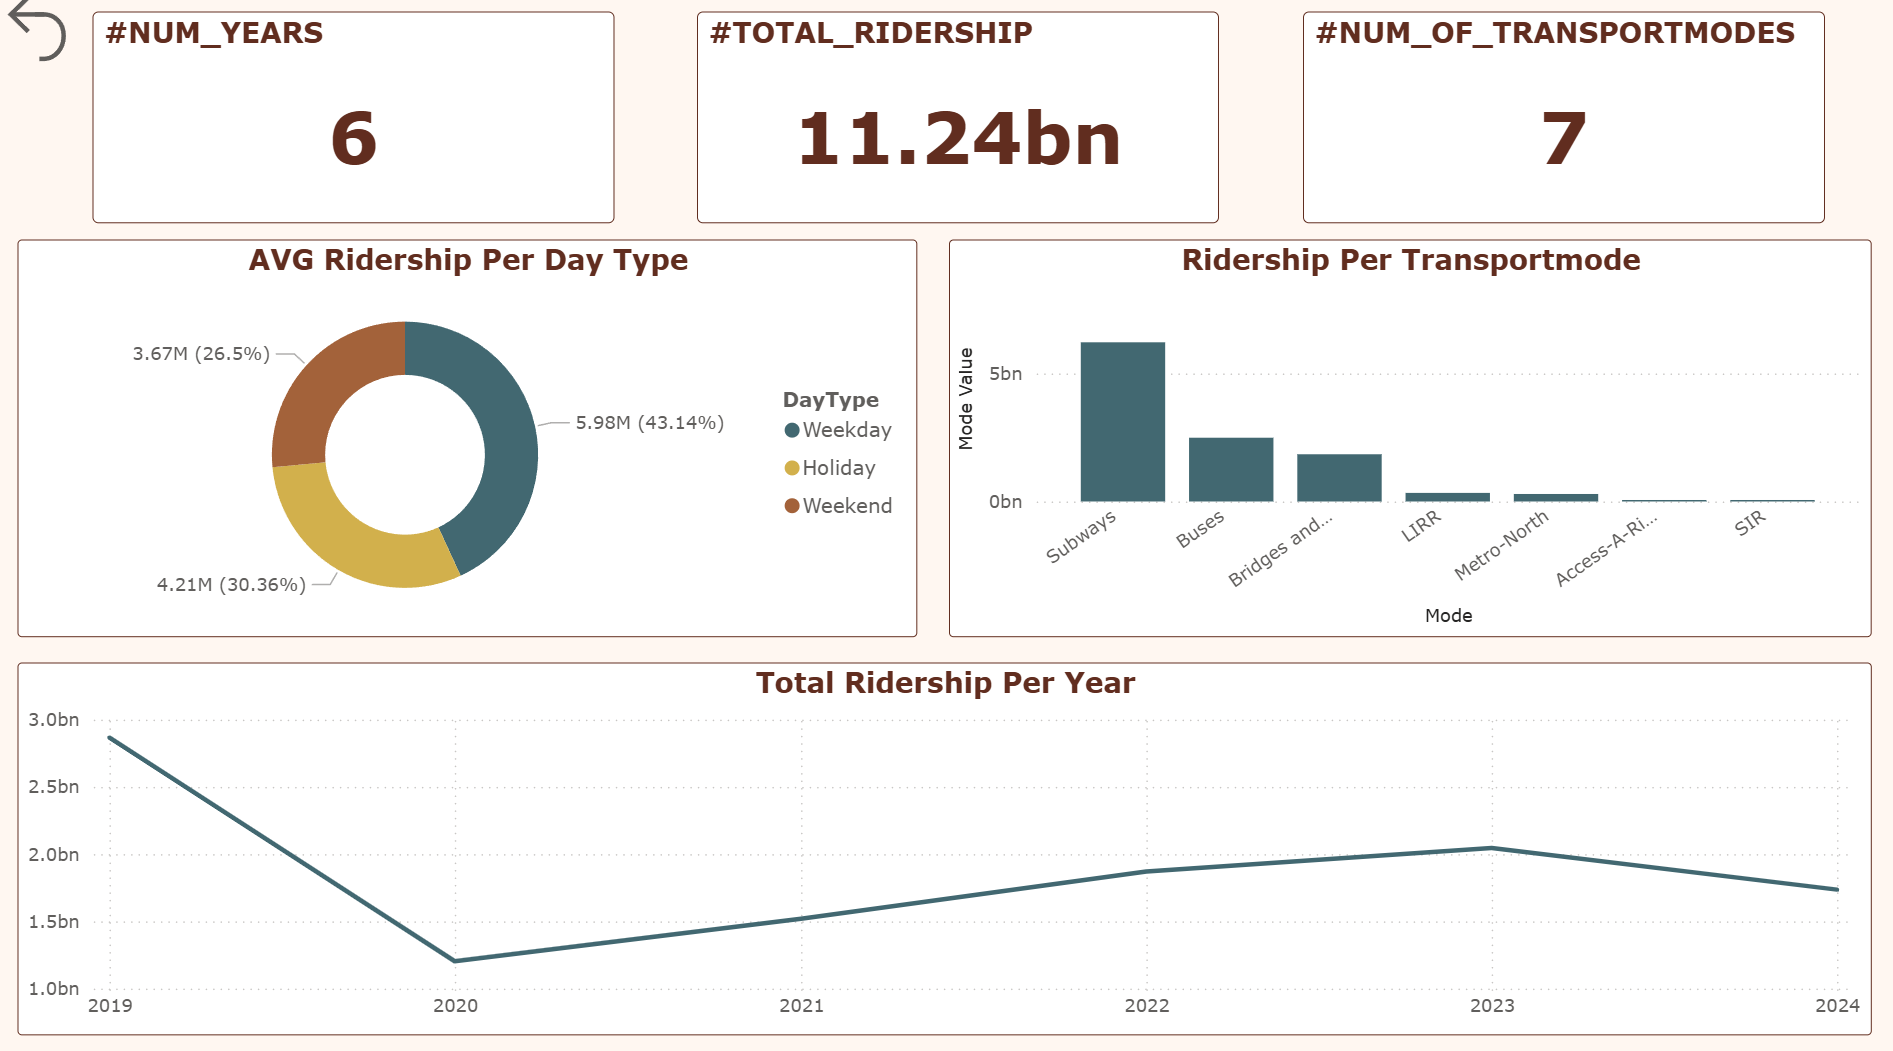

The page's visual inventory and layout, read from the dashboard file:
{"tool":"powerbi","page":{"name":"summary","canvas":[1280,720],"ordinal":8},"visuals":[{"type":"card","title":"#NUM_OF_TRANSPORTMODES","fields":{"Values":["Count(TransportModes.Mode)"]},"box":[876.7,16.7,350,141.7],"z":0},{"type":"card","title":"#TOTAL_RIDERSHIP","fields":{"Values":["Final.Total Ridership"]},"box":[470.8,16.7,350,141.7],"z":1000},{"type":"card","title":"#NUM_YEARS","fields":{"Values":["Count(Final.Year)"]},"box":[65,16.7,350,141.7],"z":2000},{"type":"lineChart","title":"Total Ridership Per Year","fields":{"Category":["Final.Date.Variation.Date Hierarchy.Year","Final.Date.Variation.Date Hierarchy.Quarter","Final.Date.Variation.Date Hierarchy.Month","Final.Date.Variation.Date Hierarchy.Day"],"Y":["Final.Total Ridership"]},"box":[15,453.3,1243.3,250],"z":3000},{"type":"columnChart","title":"Ridership Per Transportmode","fields":{"Category":["TransportModes.Mode"],"Y":["TransportModes.Mode Value"]},"box":[640,170,618.3,266.7],"z":4000},{"type":"donutChart","title":"AVG Ridership Per Day Type","fields":{"Category":["Final.DayType"],"Y":["Final.Average Total Ridership"]},"box":[15,170,603.3,266.7],"z":5000},{"type":"actionButton","box":[0,0,65,56.7],"z":6000}]}

Visuals, with their boxes in screenshot pixels (x1, y1, x2, y2), scaled from the page's 1280x720 canvas onto the 1893x1051 screenshot:
"#NUM_OF_TRANSPORTMODES" card: bbox(1297, 24, 1814, 231)
"#TOTAL_RIDERSHIP" card: bbox(696, 24, 1214, 231)
"#NUM_YEARS" card: bbox(96, 24, 614, 231)
"Total Ridership Per Year" lineChart: bbox(22, 662, 1861, 1027)
"Ridership Per Transportmode" columnChart: bbox(946, 248, 1861, 637)
"AVG Ridership Per Day Type" donutChart: bbox(22, 248, 914, 637)
actionButton: bbox(0, 0, 96, 83)
